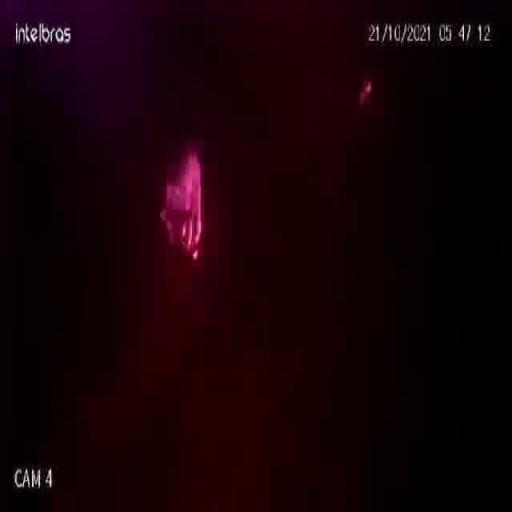smoke: (127, 95, 239, 297)
